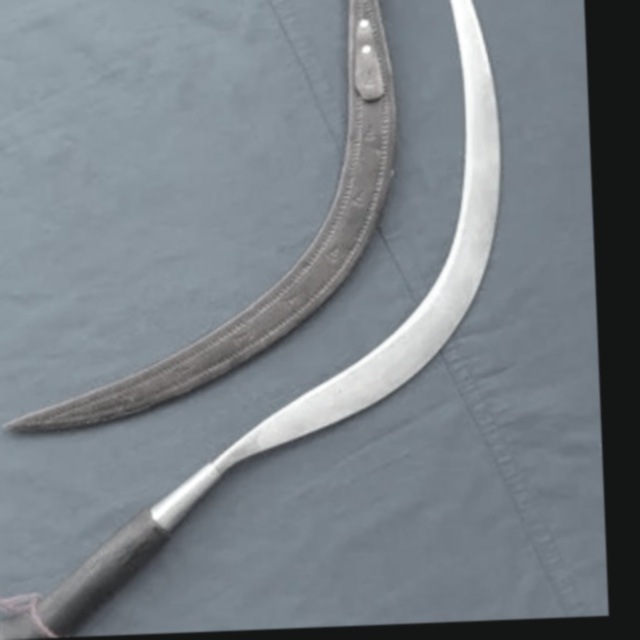Sharp-Object: (14, 0, 532, 638)
